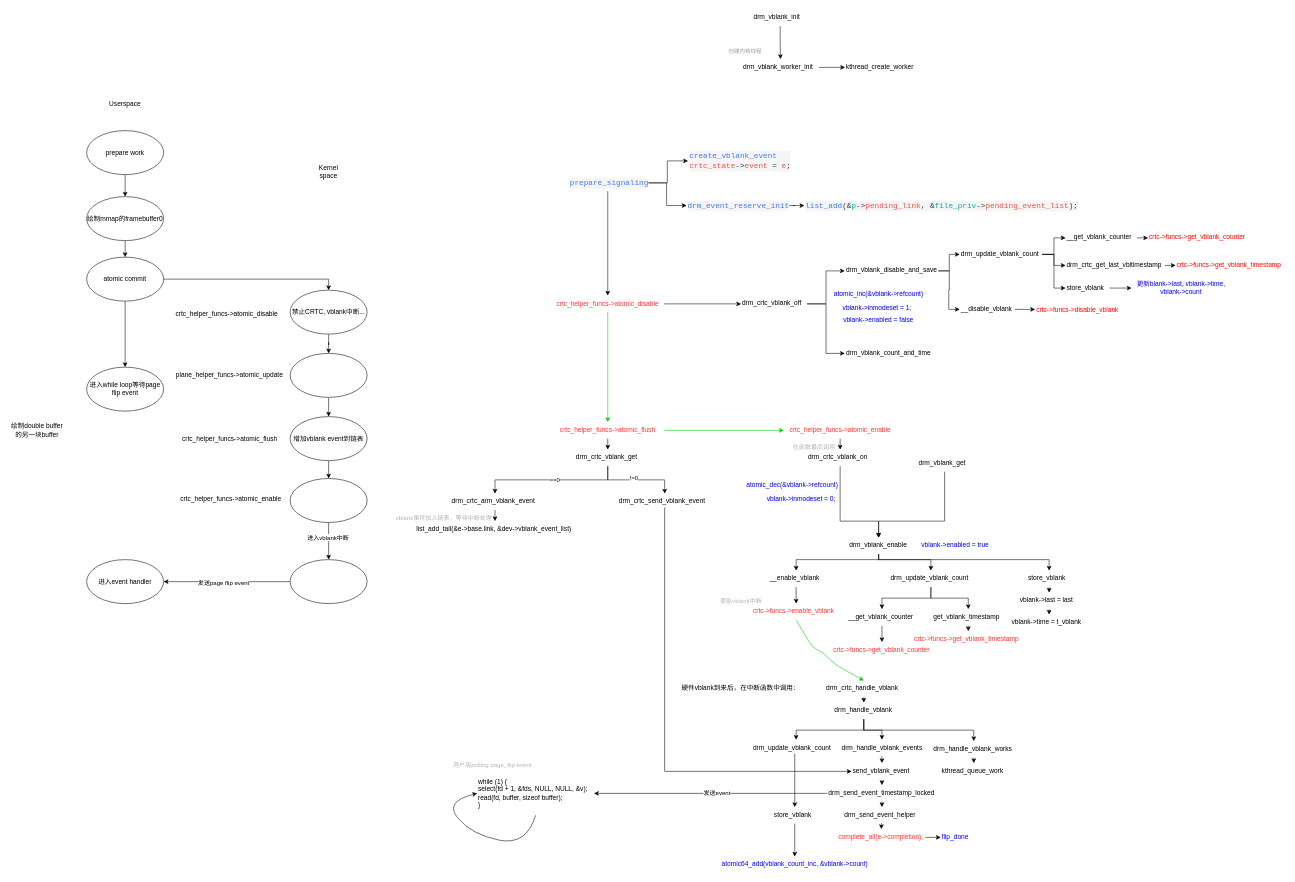
Image size: 1295x882. Some labels were removed from this diagram. The centre of each missing label's shape, as x and y in pixels:
"irq handler" goes at point 328,581.
"page_flip 切buffer地址" goes at point 328,375.
"使能CRTC, vblank中断" goes at point 328,500.
